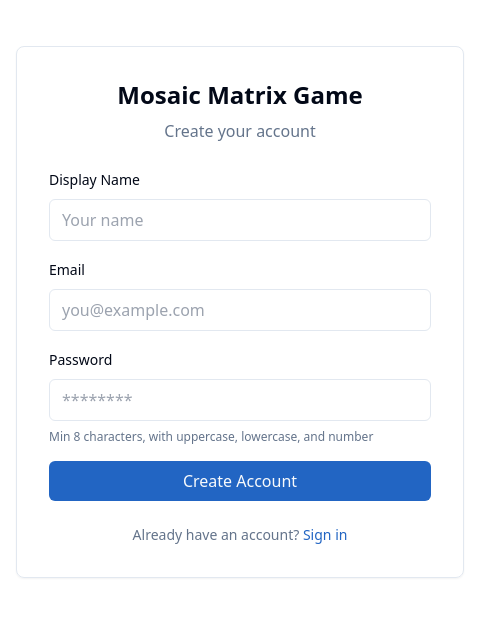
Test case: Register Page › should display error on registration failure
Type "John Doe" into the field labelled "Display Name" at (240, 220), box left=49, top=199, right=431, bottom=241
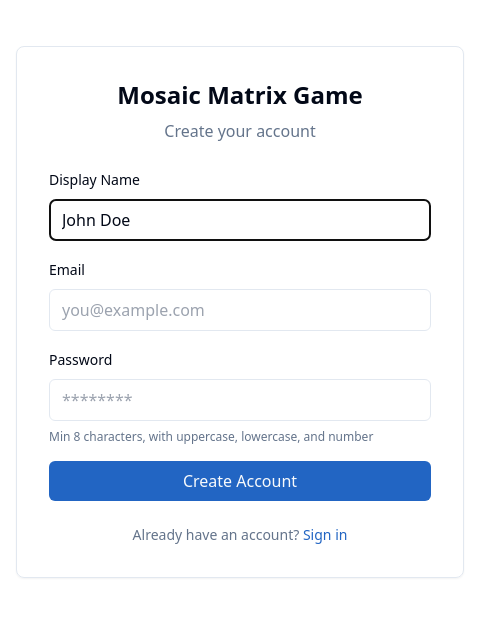
Type "john@example.com" into the field labelled "Email" at (240, 310), box left=49, top=289, right=431, bottom=331
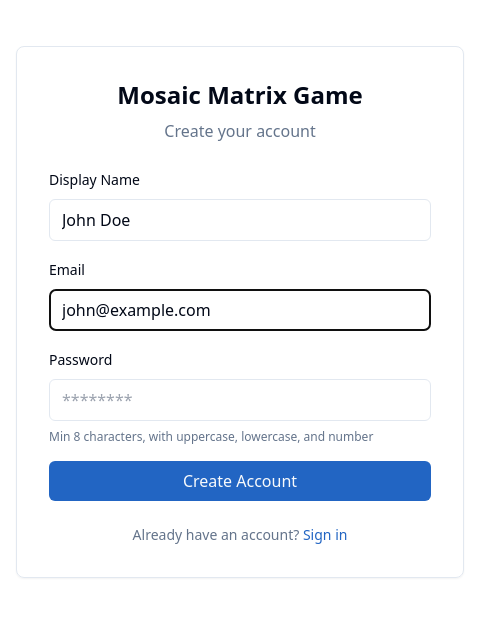
Type "Password123" into the password field labelled "Password" at (240, 400), box left=49, top=379, right=431, bottom=421
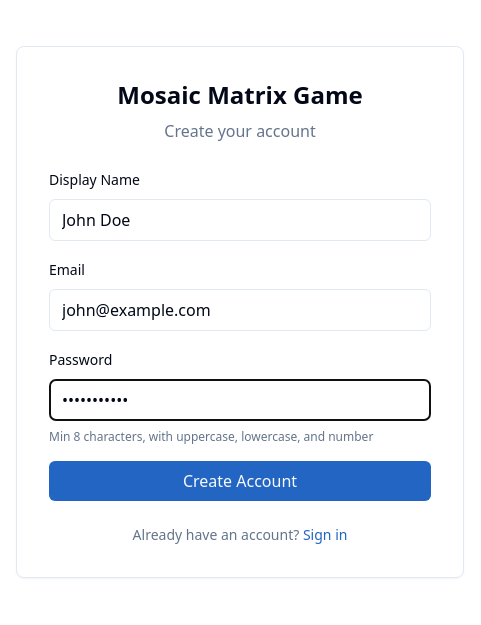
Click the button "Create Account" at (240, 481), box left=49, top=461, right=431, bottom=501
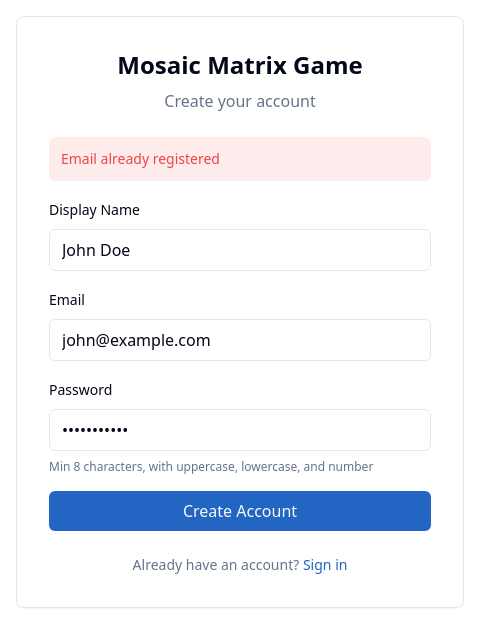
Expected: the text "Email already registered" is shown, left=49, top=137, right=431, bottom=181
